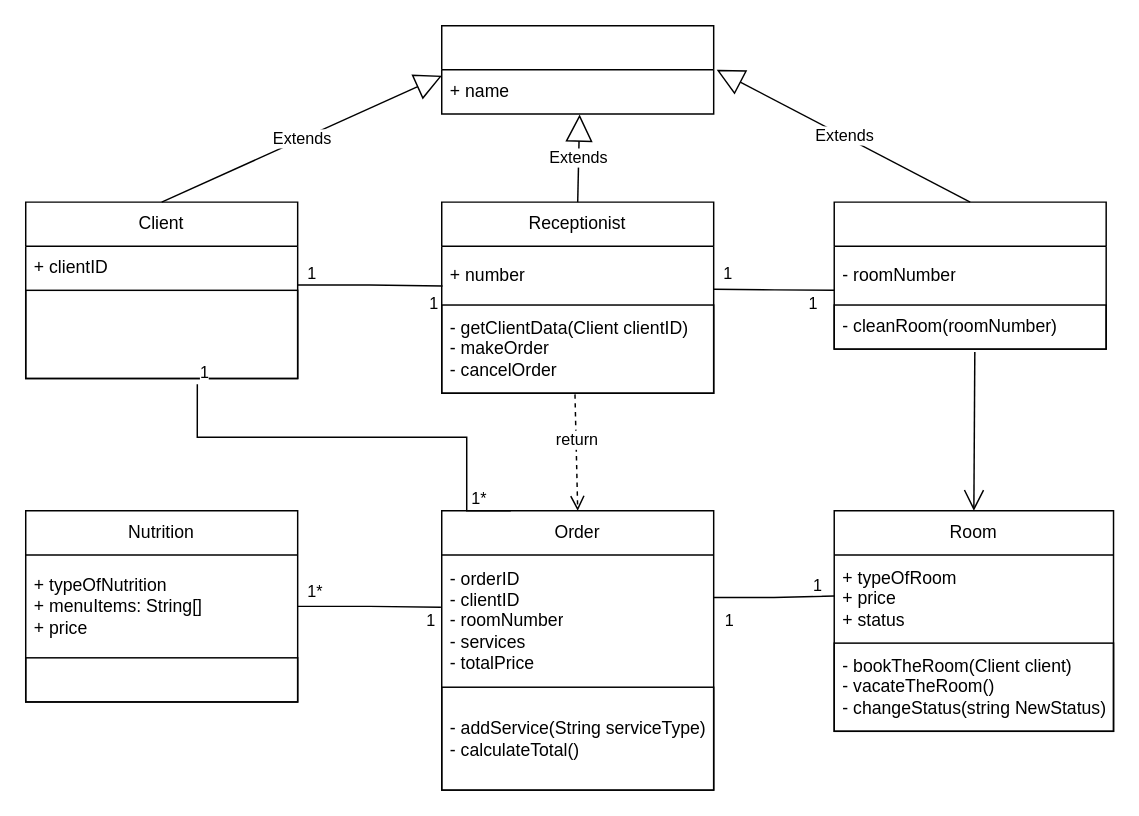
Some shapes in this 1139 by 816 pixel diagram are drawn without their labels. Here are the shapes that lost their labels. From the top down, the box of each, then its label:
(440, 24, 714, 114): Human
(833, 201, 1106, 349): Cleaner
(24, 289, 298, 379): + bookRoom(Receptionist number) + cancelReservation
(24, 656, 298, 702): - changeMenu
